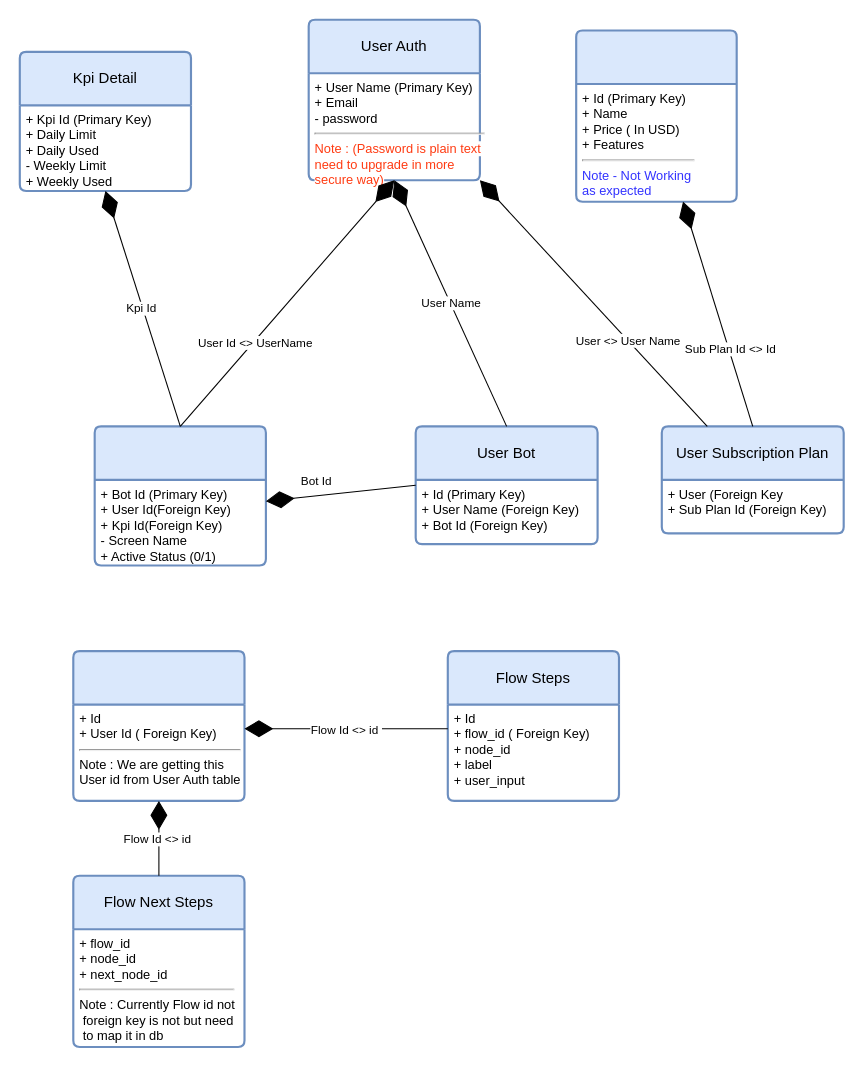
Image size: 862x1077. Some labels were removed from this diagram. The box of each missing label's shape, as (x1, y1, x2, y2) in pixels:
Bot - Account: (93, 425, 266, 566)
Flows: (72, 649, 245, 801)
Subscription Plan: (575, 29, 737, 202)
